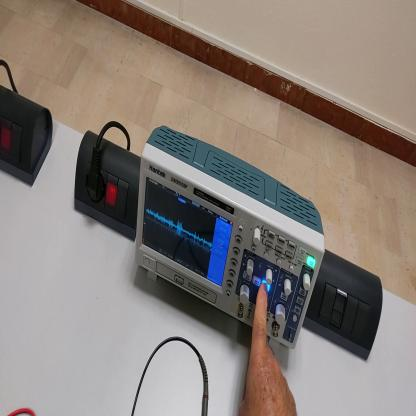hand: (240, 283, 298, 416)
oscilloscope: (136, 126, 327, 351)
oscilloscope probe tip: (199, 357, 210, 415)
socket: (76, 129, 141, 241), (2, 85, 56, 190)
